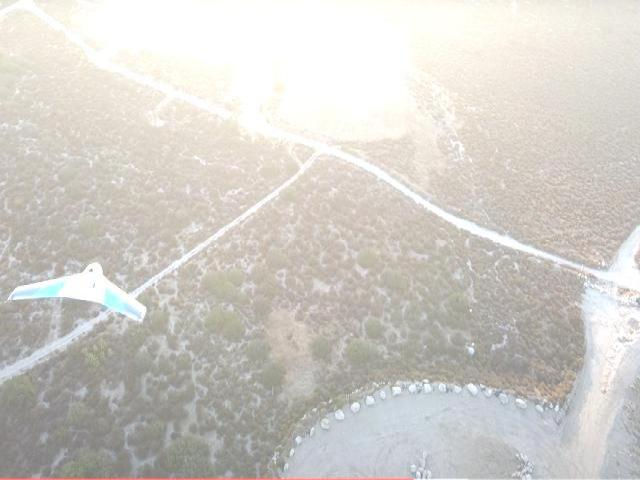iha: (7, 257, 149, 324)
